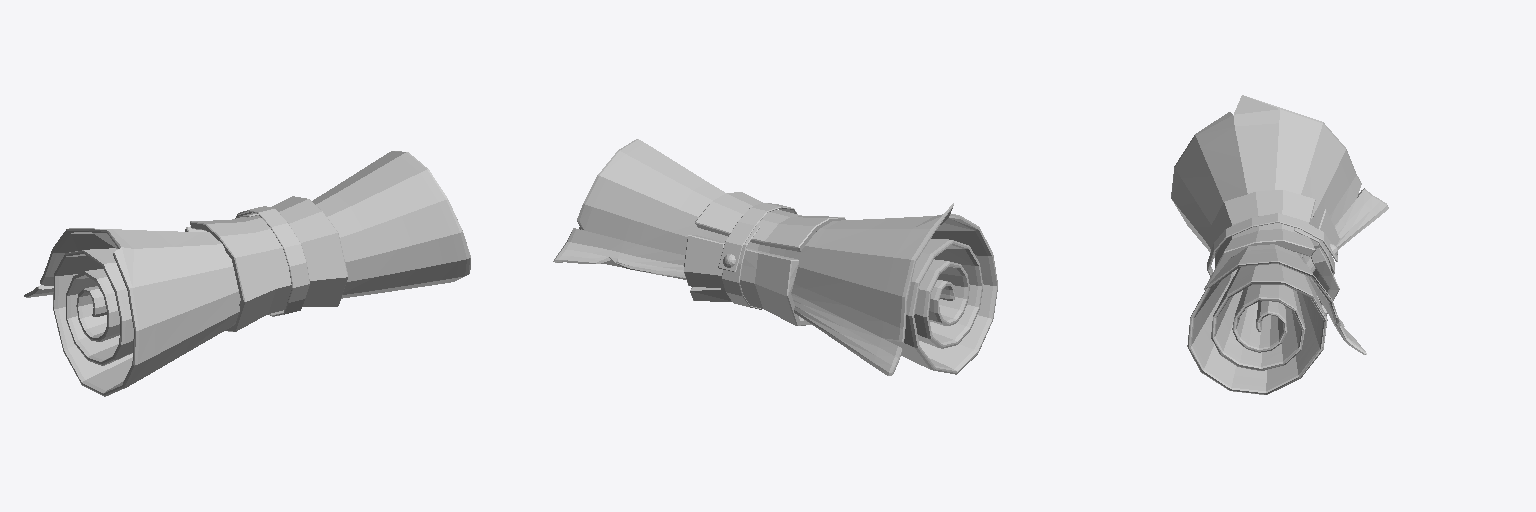
File: ScroLLs.obj
3 renders of one model, left to right at view 1: azimuth 30°, elevation 25°; view 2: azimuth 150°, elevation 25°; view 3: azimuth 270°, elevation 25°, orthographic.
Visible parts, largest first — view 1: Scroll, LeatherWrap, LeatherStrap; view 2: Scroll, LeatherWrap, LeatherStrap; view 3: Scroll, LeatherWrap, LeatherStrap.
Boxes of the visible parts, <box> form: Scroll: <box>24,151,470,396</box>; LeatherWrap: <box>185,196,347,331</box>; LeatherStrap: <box>235,206,309,316</box>; Scroll: <box>553,139,997,375</box>; LeatherWrap: <box>684,192,845,325</box>; LeatherStrap: <box>718,203,796,309</box>; Scroll: <box>1171,95,1388,394</box>; LeatherWrap: <box>1204,190,1339,315</box>; LeatherStrap: <box>1207,213,1337,276</box>.
Bounding box in the file's own units: 0.8641 × 0.3627 × 0.4489.